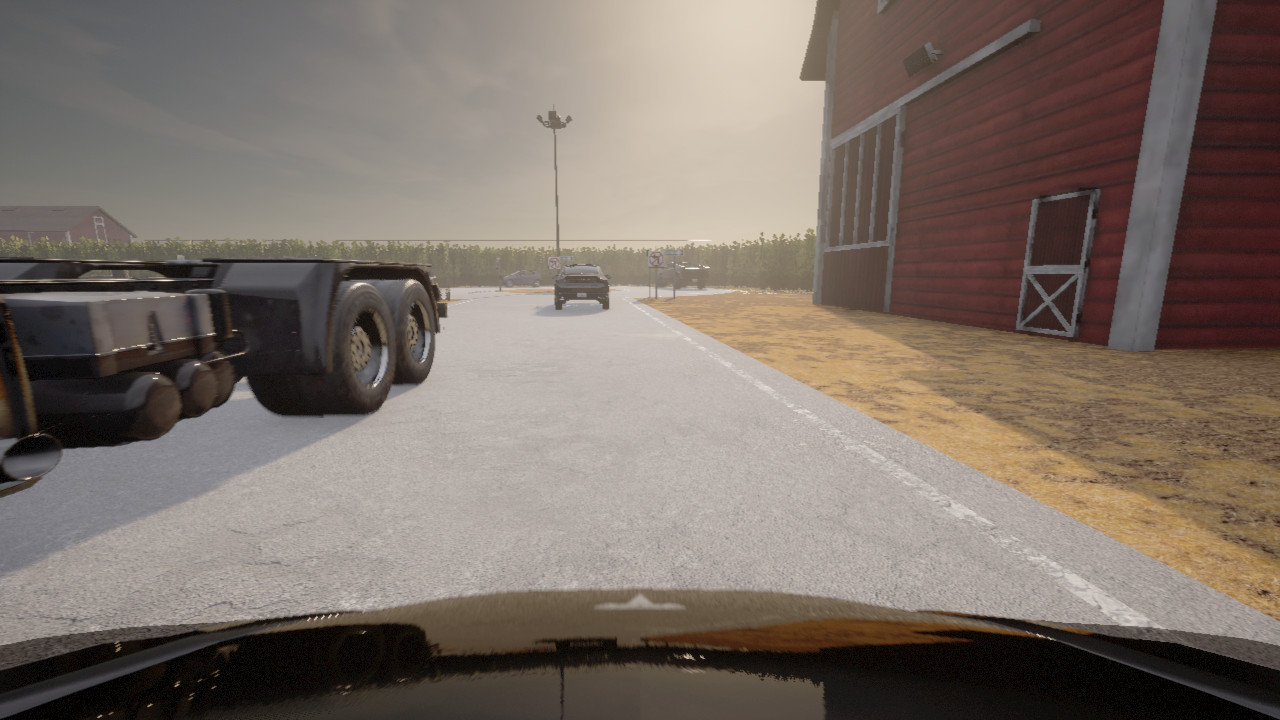cyclist: (0, 588, 1279, 719), (0, 257, 447, 497), (552, 264, 610, 309), (657, 262, 708, 288), (501, 270, 541, 286)
